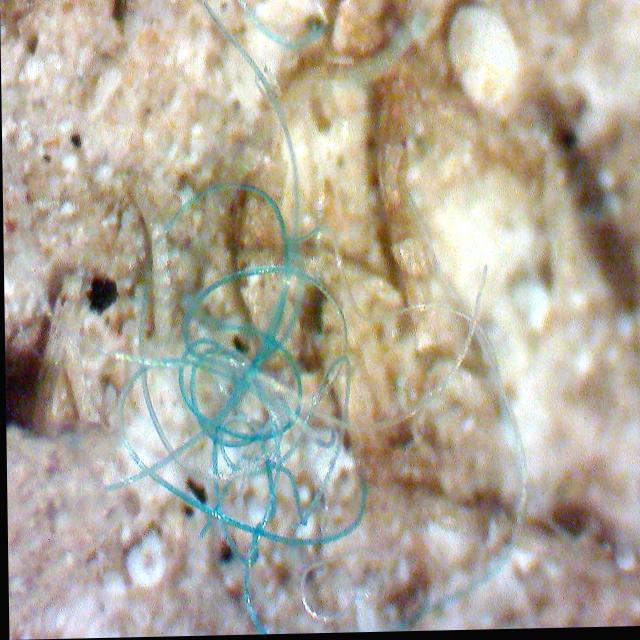microplastic: (90, 165, 391, 614)
